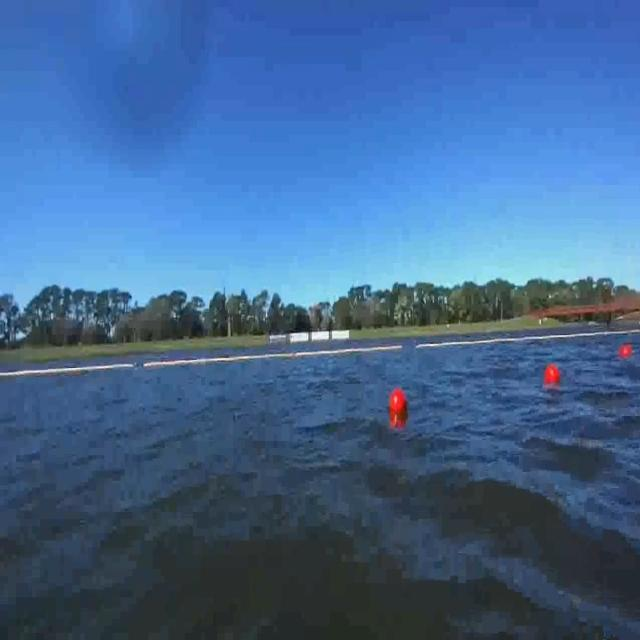red-buoy: (387, 391, 405, 417), (546, 364, 563, 384), (620, 344, 633, 360)
